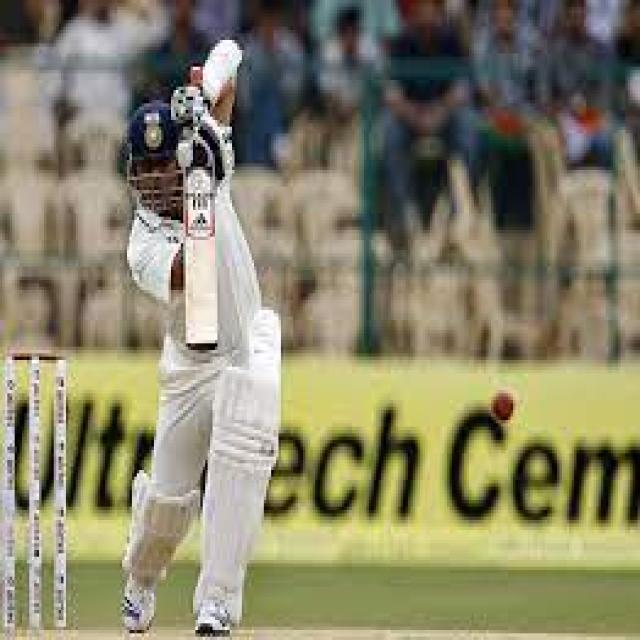bat: (184, 154, 227, 354)
